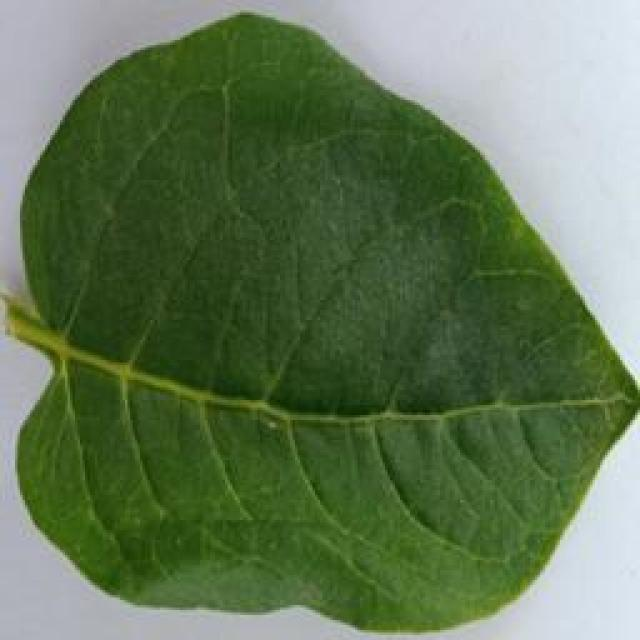Potato_Healthy: (8, 10, 627, 629)
